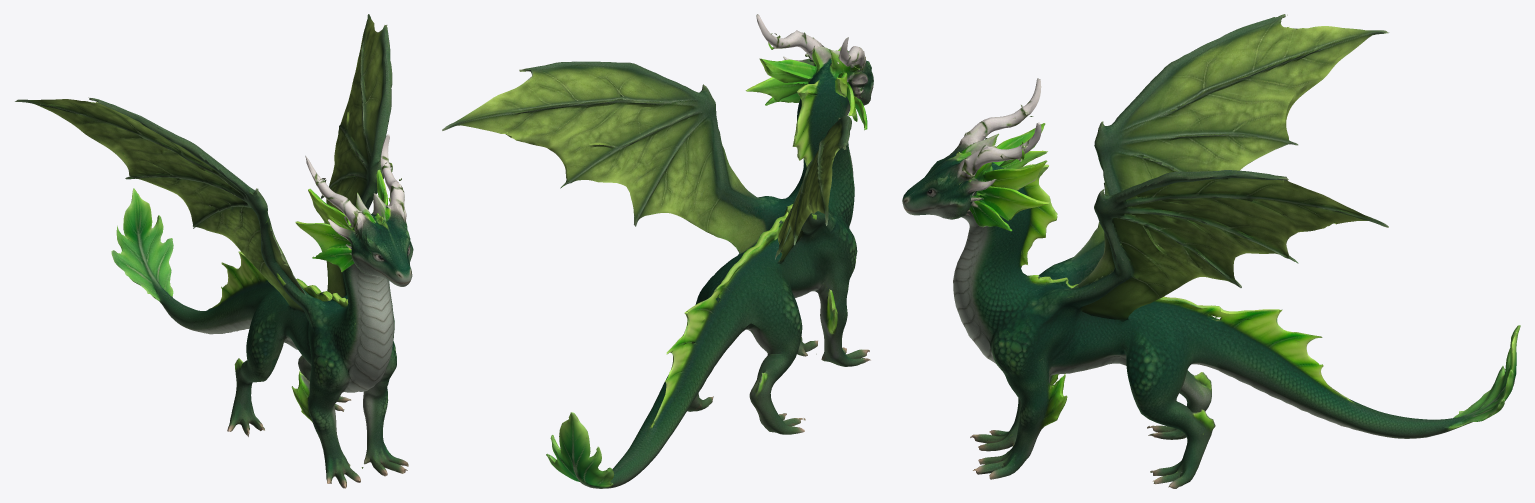
File: forest_dragon.glb
3 renders of one model, left to right at view 1: azimuth 30°, elevation 25°; view 2: azimuth 150°, elevation 25°; view 3: azimuth 270°, elevation 25°, orthographic. The views are drawn at different scales.
Parts seen in each view (by area): view 1: Mesh_0; view 2: Mesh_0; view 3: Mesh_0.
Boxes of the visible parts, bbox=[...] form: Mesh_0: bbox=[15, 14, 413, 488]; Mesh_0: bbox=[442, 14, 873, 488]; Mesh_0: bbox=[902, 14, 1520, 488].
Bounding box in the file's own units: 1.41 × 1.22 × 1.89.
1 material, 1 textured.
